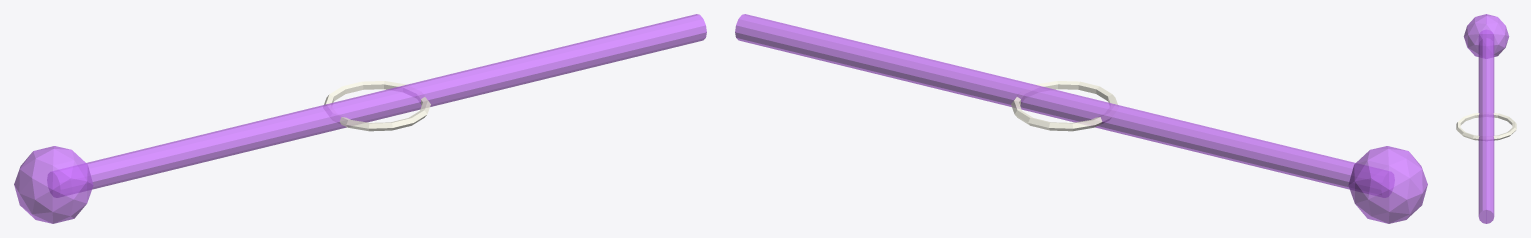
File: vfx_beam_arcane_purple.glb
The picture shows the model from 3 angles, left to right: view 1: azimuth 30°, elevation 25°; view 2: azimuth 150°, elevation 25°; view 3: azimuth 270°, elevation 25°; orthographic projection. The views are drawn at different scales.
Visible parts, largest first — view 1: beam_core, origin, ring; view 2: beam_core, origin, ring; view 3: beam_core, origin, ring.
Part boxes in pixels (x1=…): beam_core: x1=47, y1=14, x2=706, y2=197; origin: x1=14, y1=146, x2=93, y2=223; ring: x1=323, y1=81, x2=430, y2=131; beam_core: x1=735, y1=14, x2=1394, y2=197; origin: x1=1348, y1=146, x2=1427, y2=223; ring: x1=1011, y1=81, x2=1118, y2=131; beam_core: x1=1478, y1=30, x2=1494, y2=223; origin: x1=1463, y1=14, x2=1509, y2=58; ring: x1=1456, y1=113, x2=1516, y2=140.
Bounding box in the file's own units: 3.16 × 0.32 × 0.4251.
